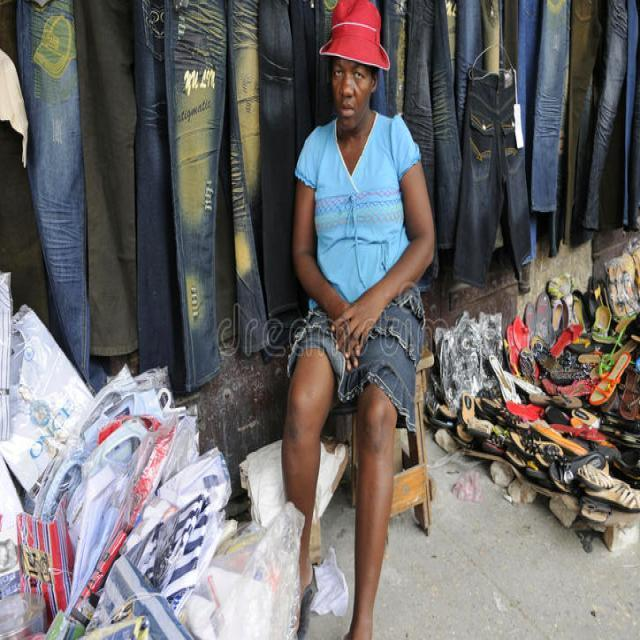clothes: (17, 0, 168, 352), (402, 0, 546, 285), (161, 0, 268, 367)
